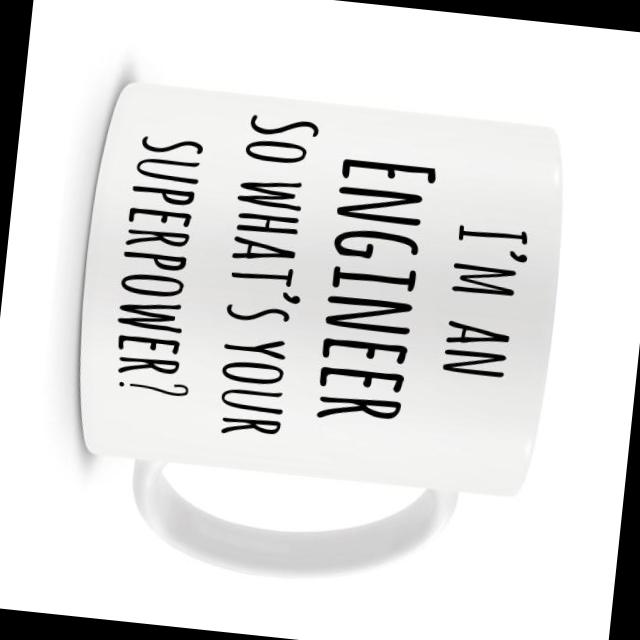Coffee Mug: (54, 79, 572, 604)
